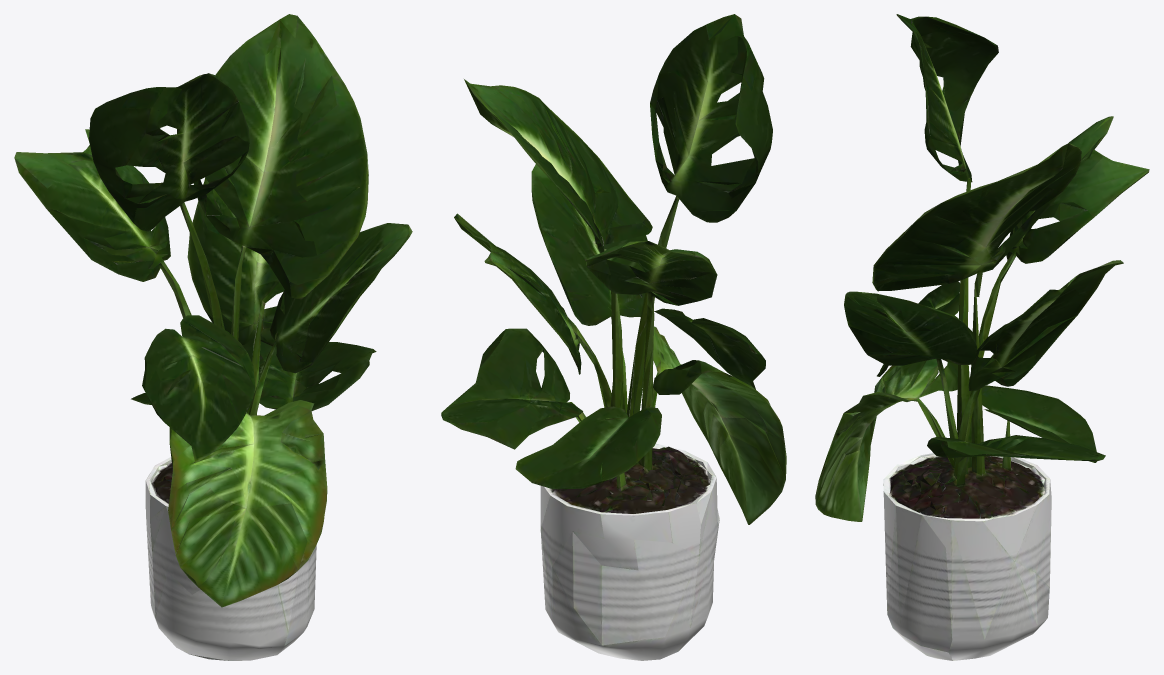
Rendered from plant.glb.
3 renders of one model, left to right at view 1: azimuth 30°, elevation 25°; view 2: azimuth 150°, elevation 25°; view 3: azimuth 270°, elevation 25°, orthographic. The views are drawn at different scales.
Bounding box in the file's own units: 0.928 × 1.9 × 0.97.
Materials: 1 (1 with a texture image).
